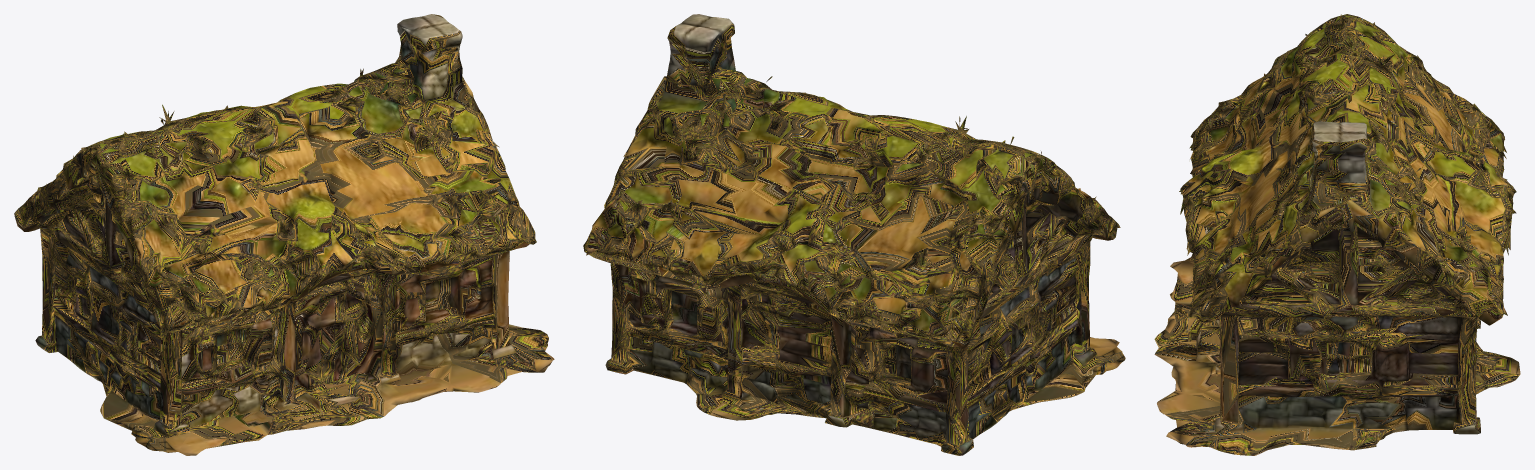
Rendered from cottage_lowpoly.glb.
3 renders of one model, left to right at view 1: azimuth 30°, elevation 25°; view 2: azimuth 150°, elevation 25°; view 3: azimuth 270°, elevation 25°, orthographic. The views are drawn at different scales.
Parts seen in each view (by area): view 1: tripo_node_e611fcba-b30e-4f40-ab1b-d7637ffdfe25; view 2: tripo_node_e611fcba-b30e-4f40-ab1b-d7637ffdfe25; view 3: tripo_node_e611fcba-b30e-4f40-ab1b-d7637ffdfe25.
Part boxes in pixels (<box>): tripo_node_e611fcba-b30e-4f40-ab1b-d7637ffdfe25: <box>14,14,554,455</box>; tripo_node_e611fcba-b30e-4f40-ab1b-d7637ffdfe25: <box>583,14,1125,455</box>; tripo_node_e611fcba-b30e-4f40-ab1b-d7637ffdfe25: <box>1154,14,1520,455</box>.
Bounding box in the file's own units: 0.9767 × 0.6514 × 0.7356.
1 material, 1 textured.
